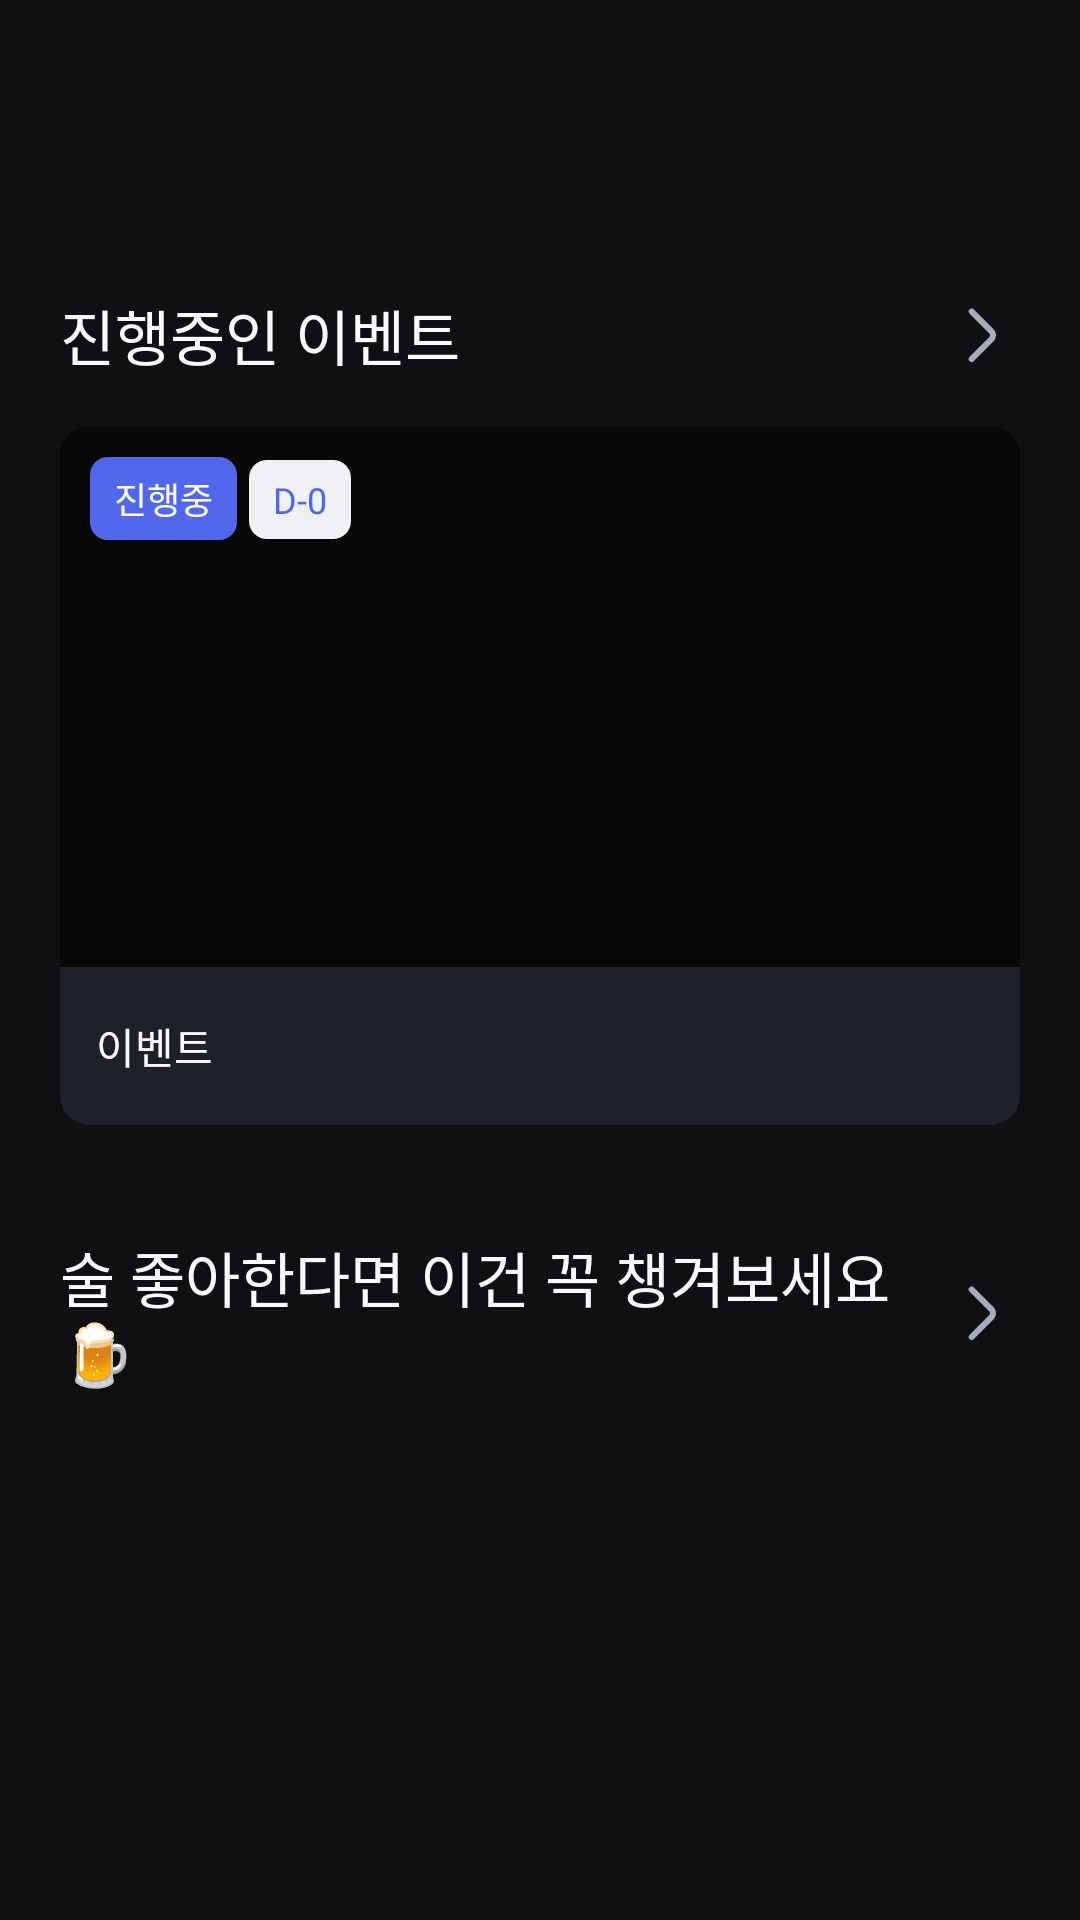

Screen size 1080x1920. Icon name, then its box in pixels as (x1, y1, x2, y2):
arrow right: (968, 308, 996, 362), (968, 1286, 996, 1340)
